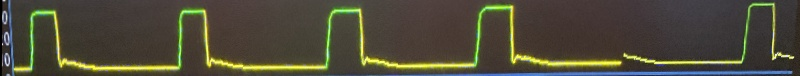normal_pressure: (21, 1, 631, 76)
